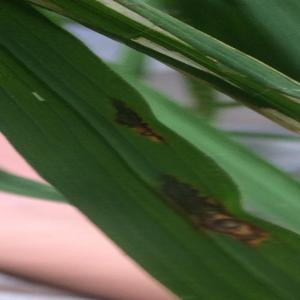Rice_Blast: (141, 167, 275, 260), (89, 87, 166, 155)
